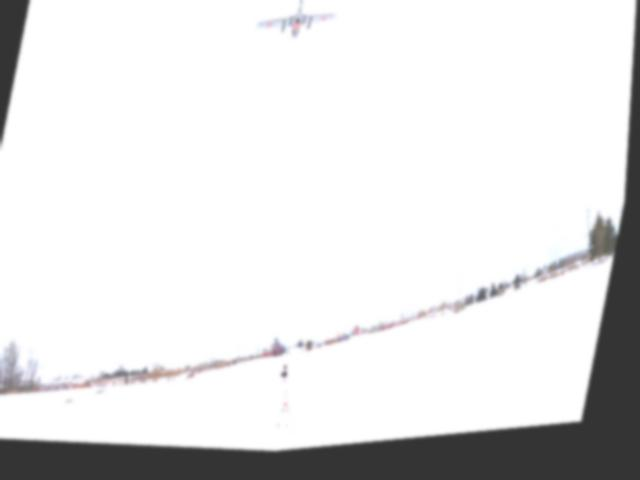plane: (253, 0, 343, 52)
